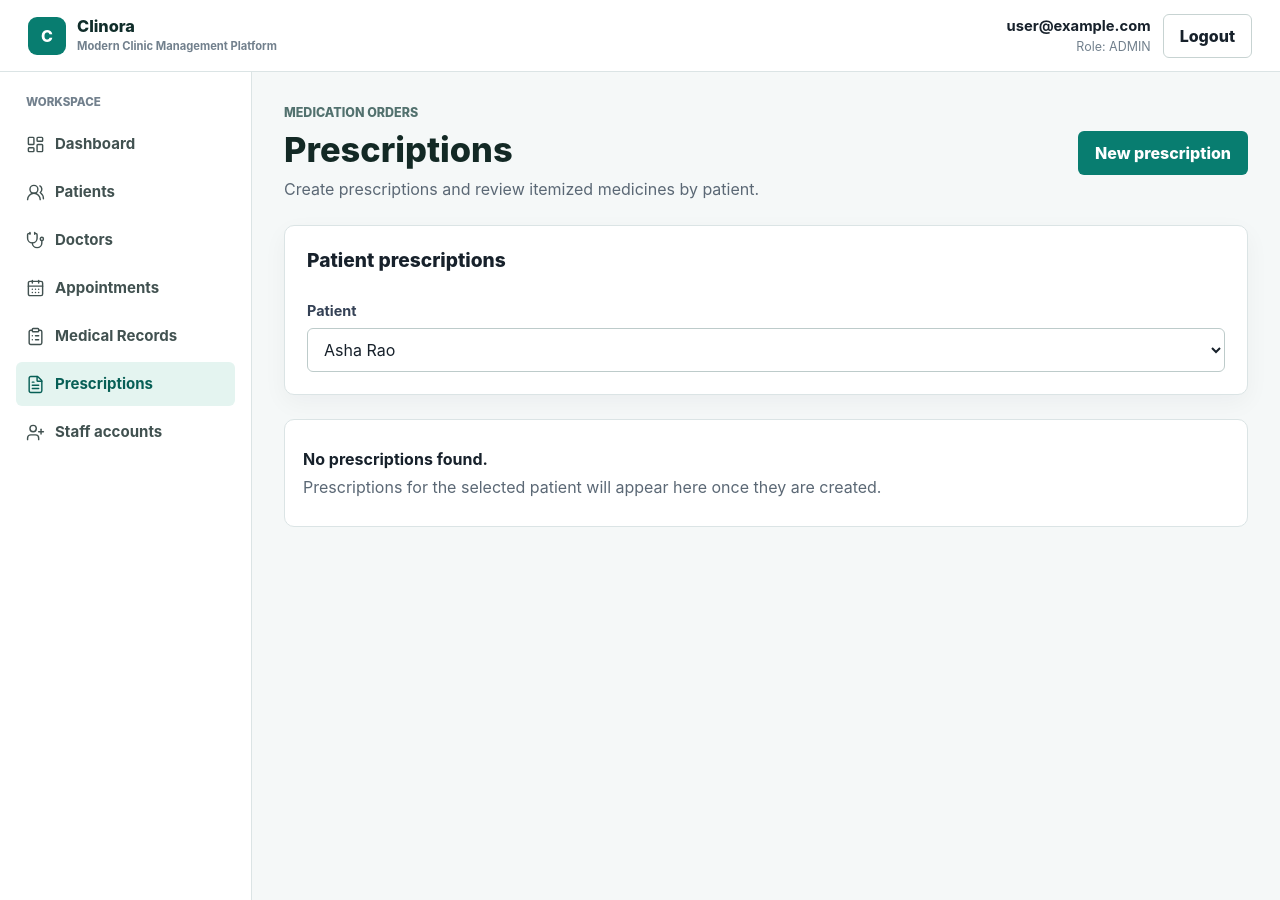
Test: PrescriptionsPage › validates required prescription item fields before submitting
Click the button "New prescription". click: (1163, 153)
box: [1078,131,1248,175]
(page scrolled)
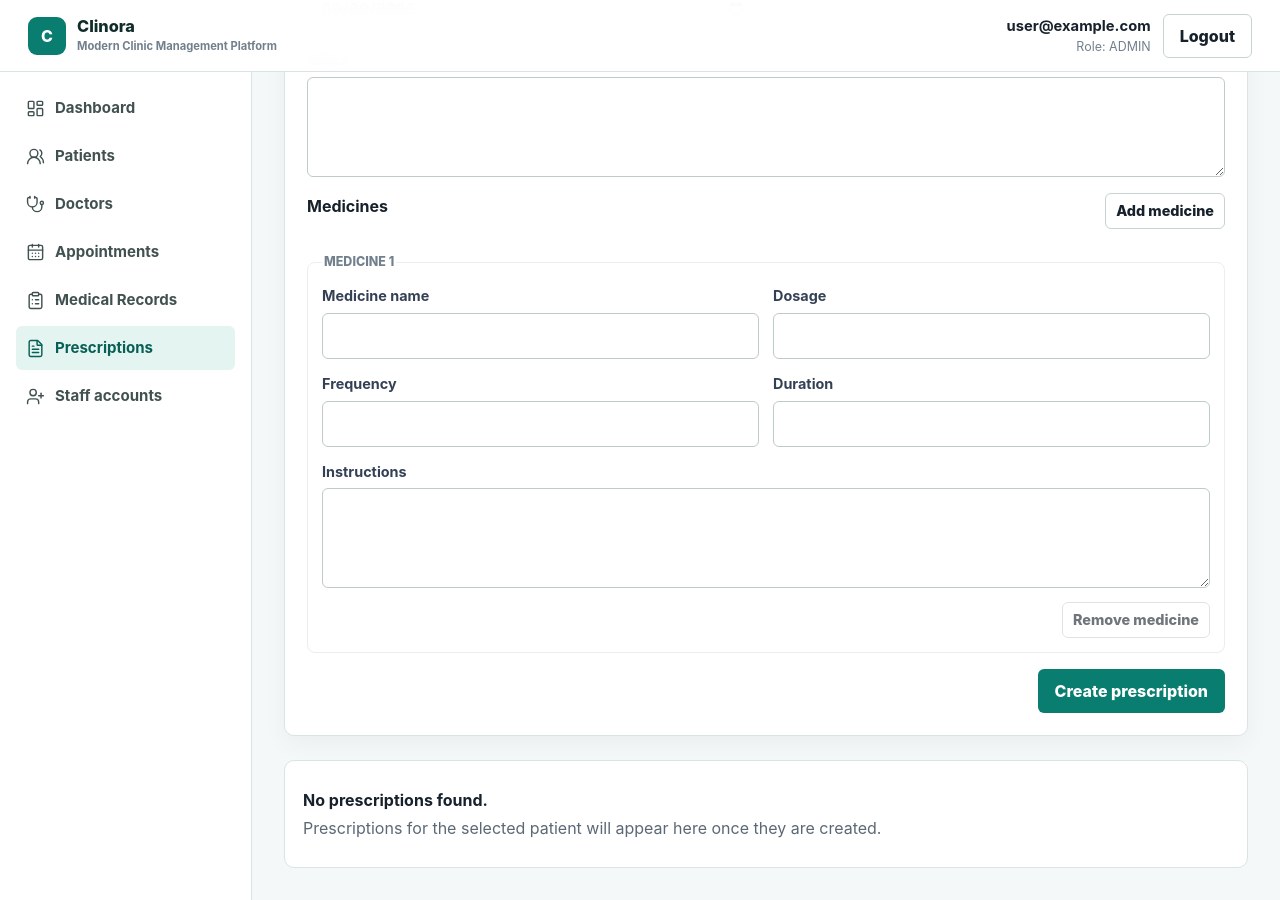
Click the button "Create prescription". click: (1131, 691)
box: [1038,669,1225,713]
(page scrolled)
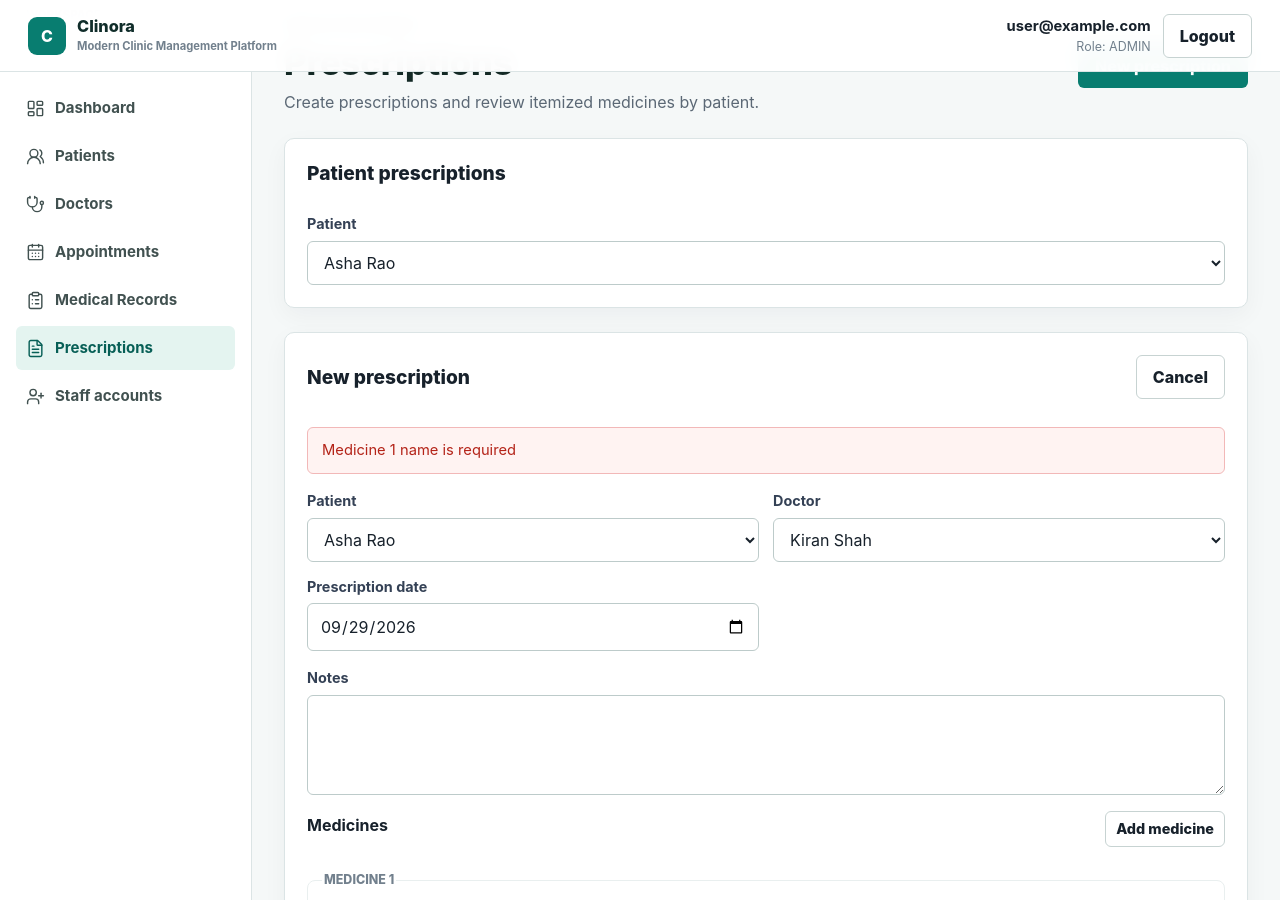
Expected: the message reads "Medicine 1 name is required", [322,441,516,459]
